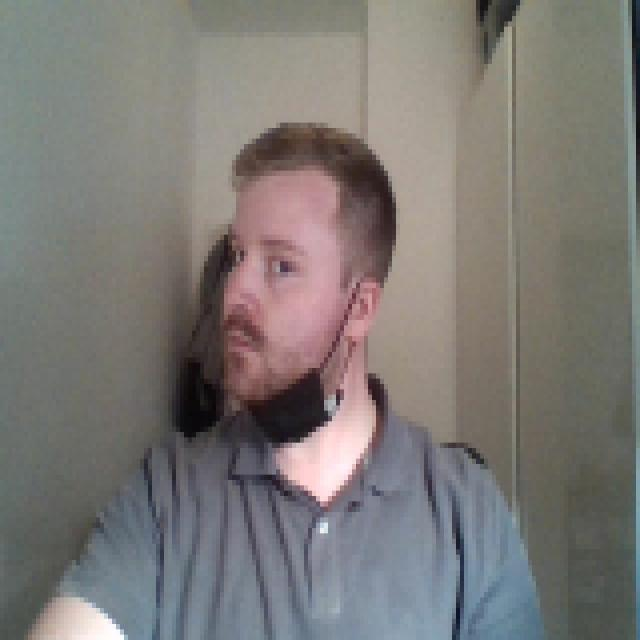hairnet: (208, 245, 384, 438)
